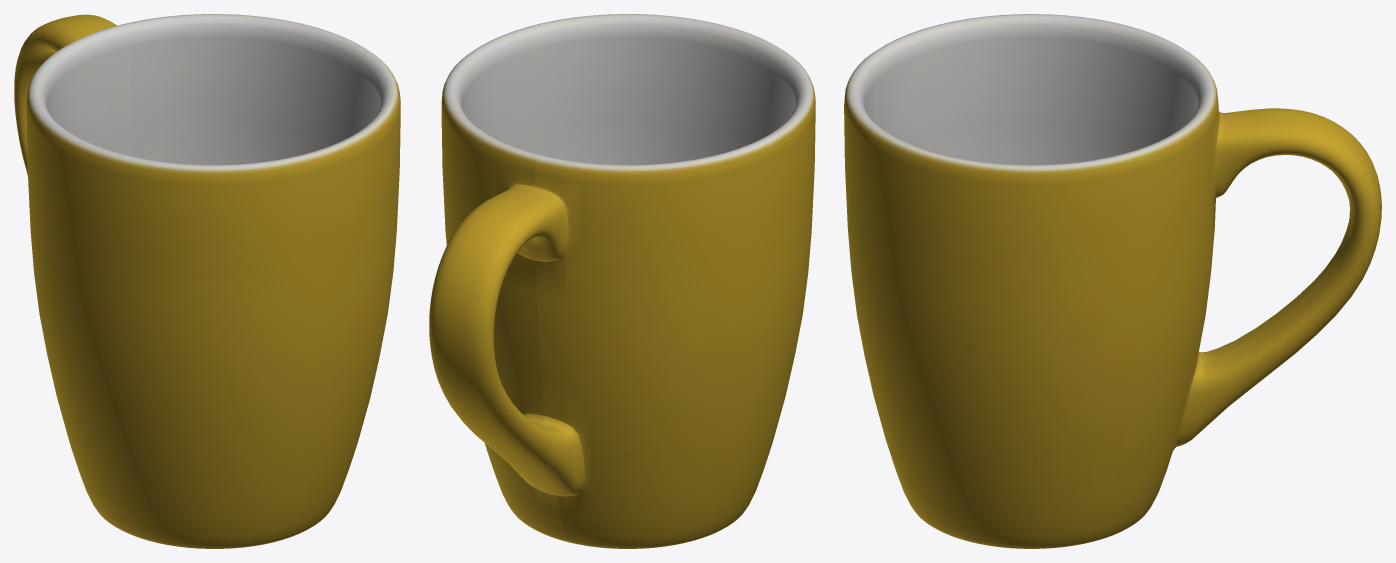
The model's file is dishware_mug_c01.glb.
3 views of the same model, side by side, from view 1: azimuth 30°, elevation 25°; view 2: azimuth 150°, elevation 25°; view 3: azimuth 270°, elevation 25° (orthographic).
Parts seen in each view (by area): view 1: part0; view 2: part0; view 3: part0.
Part boxes in pixels (box(x1,y1,x2,y2)): part0: box(14, 14, 400, 548); part0: box(429, 14, 815, 548); part0: box(844, 14, 1381, 548).
Bounding box in the file's own units: 0.0889 × 0.1072 × 0.1277.
1 material, 1 textured.
